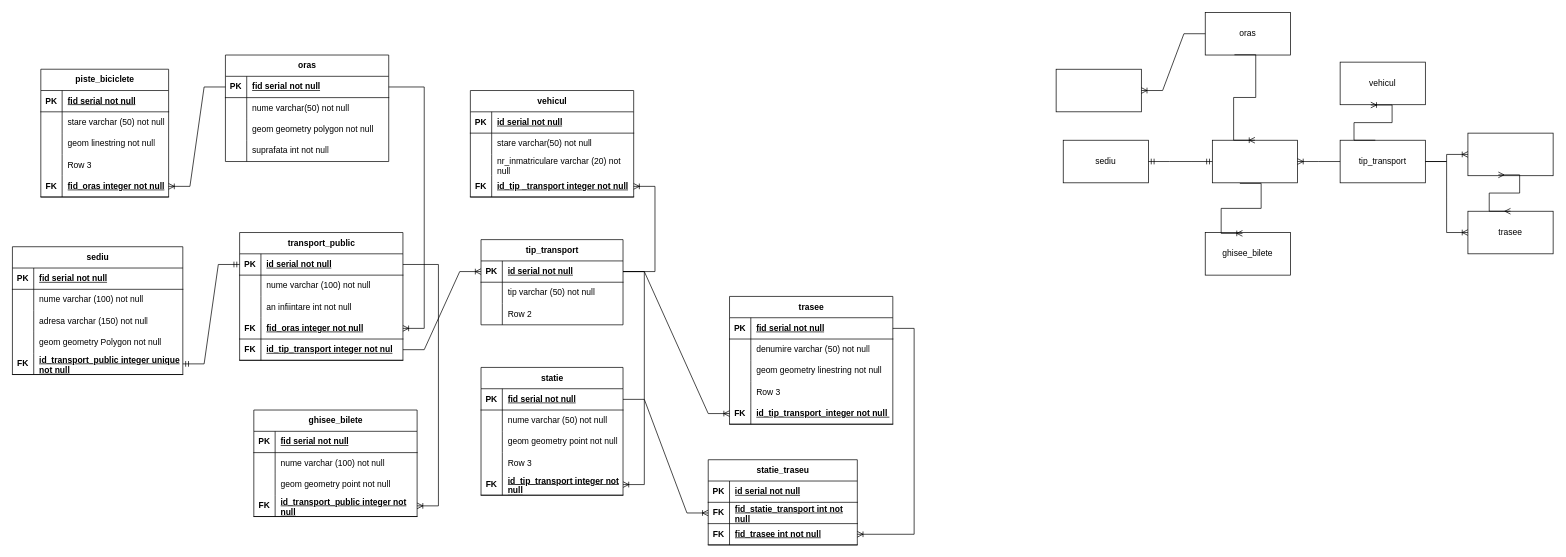
This 1566x557 diagram has some shape labels left out. Each missing label, with the centre of its shape:
"piste biciclete" goes at (x=1098, y=90).
"statie_transport" goes at (x=1510, y=154).
"transport public" goes at (x=1255, y=161).
